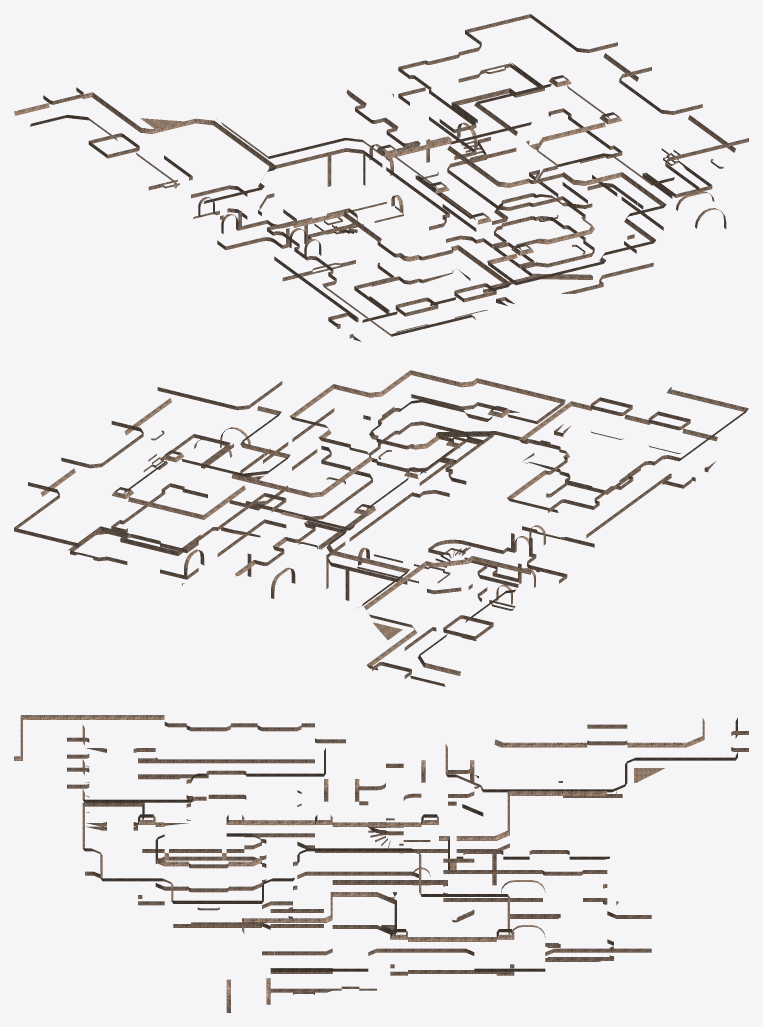
The picture shows the model from 3 angles, top to bottom: view 1: azimuth 30°, elevation 25°; view 2: azimuth 150°, elevation 25°; view 3: azimuth 270°, elevation 25°; orthographic projection. The views are drawn at different scales.
Parts seen in each view (by area): view 1: Object_2; view 2: Object_2; view 3: Object_2.
Boxes of the visible parts, <box> form: Object_2: <box>14,14,748,341</box>; Object_2: <box>14,370,748,686</box>; Object_2: <box>14,715,748,1012</box>.
Bounding box in the file's own units: 59.73 × 8.11 × 70.83.
Materials: 1 (1 with a texture image).
